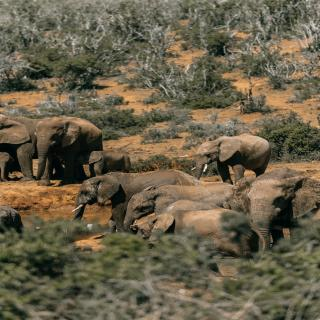Elephant: (59, 168, 182, 230), (231, 169, 320, 250), (120, 184, 248, 237), (28, 112, 103, 190), (185, 137, 281, 186), (79, 145, 139, 177)
